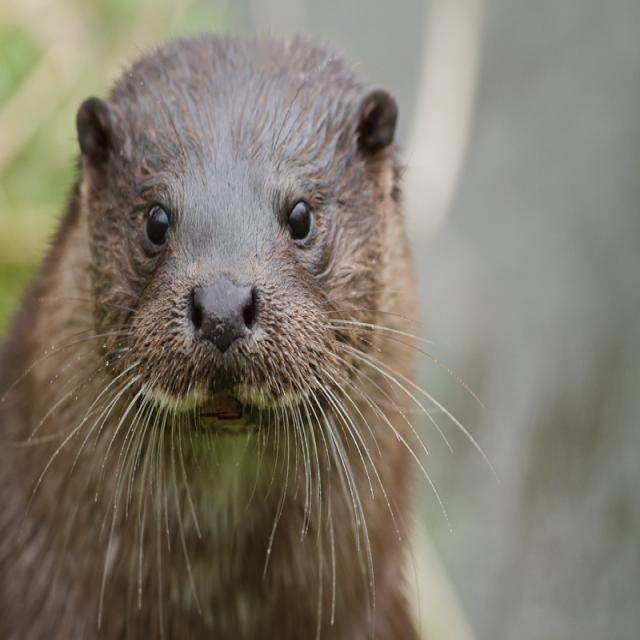otter: (78, 39, 396, 432)
